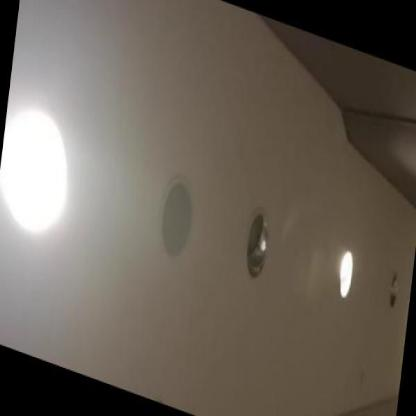light_off: (214, 184, 290, 306), (372, 250, 407, 330)
